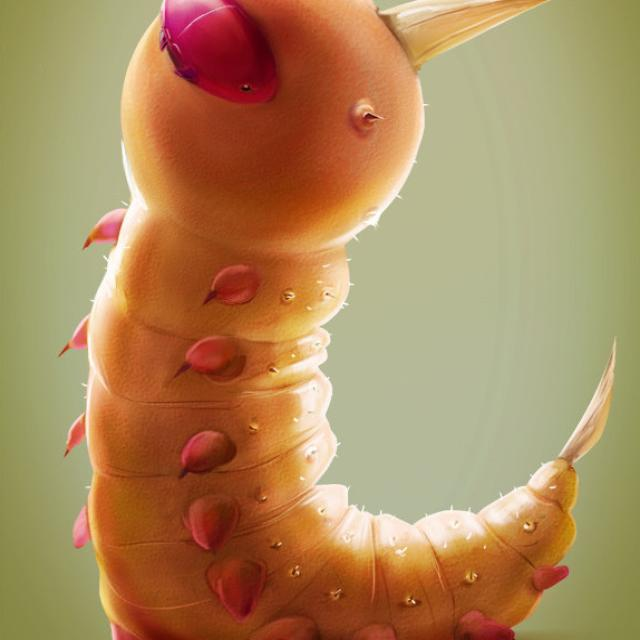Weedle: (76, 0, 516, 640)
